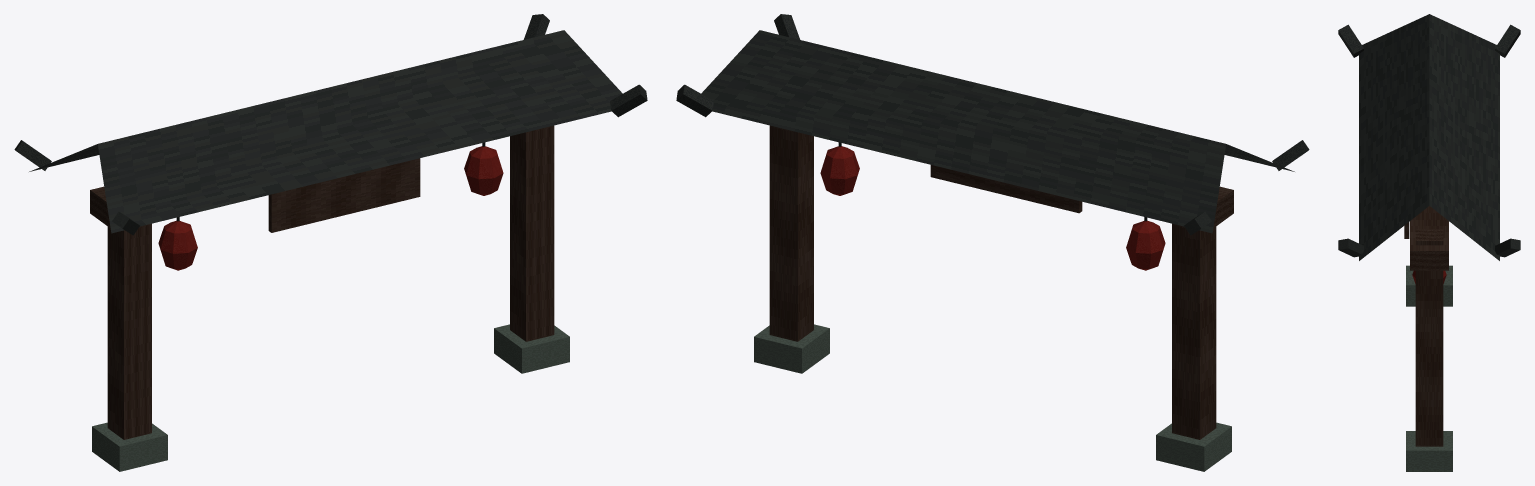
The model's file is gate.glb.
The picture shows the model from 3 angles, left to right: view 1: azimuth 30°, elevation 25°; view 2: azimuth 150°, elevation 25°; view 3: azimuth 270°, elevation 25°; orthographic projection. The views are drawn at different scales.
Visible parts, largest first — view 1: gate; view 2: gate; view 3: gate.
Part boxes in pixels (x1,y1,x2,y2): gate: (14,14,647,471); gate: (676,14,1309,471); gate: (1338,14,1520,471).
Size of the model in its own units: 6.64 by 3.8 by 2.33.
Materials: 1 (1 with a texture image).
